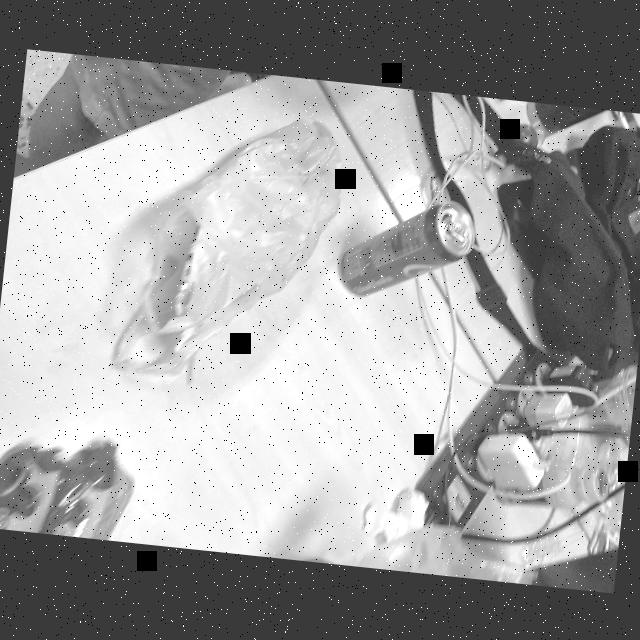can: (334, 188, 482, 314)
plastic_bag: (101, 96, 353, 400), (326, 510, 546, 584)
plastic_bottle: (492, 451, 616, 516)
plastic_box: (586, 430, 628, 526)
plastic_cup: (566, 359, 636, 436)
scrap_paper: (351, 484, 437, 564)
snack_bag: (51, 434, 147, 542), (0, 434, 77, 534)
straw: (592, 371, 636, 411)
